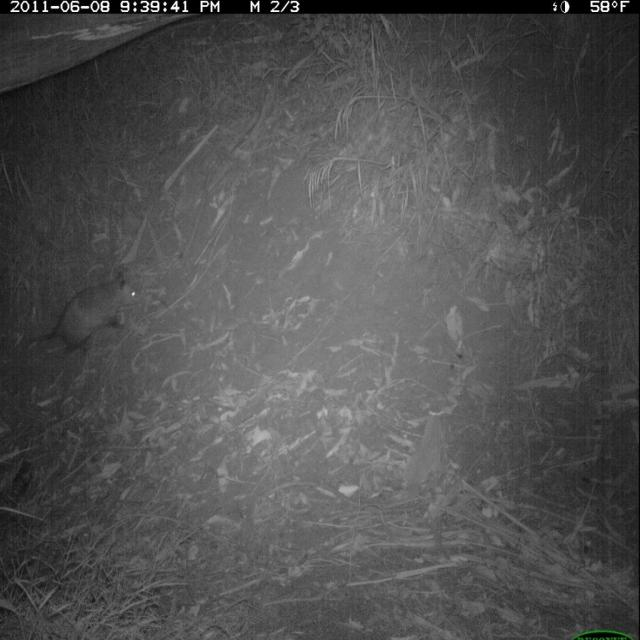opossum: (15, 267, 143, 374)
